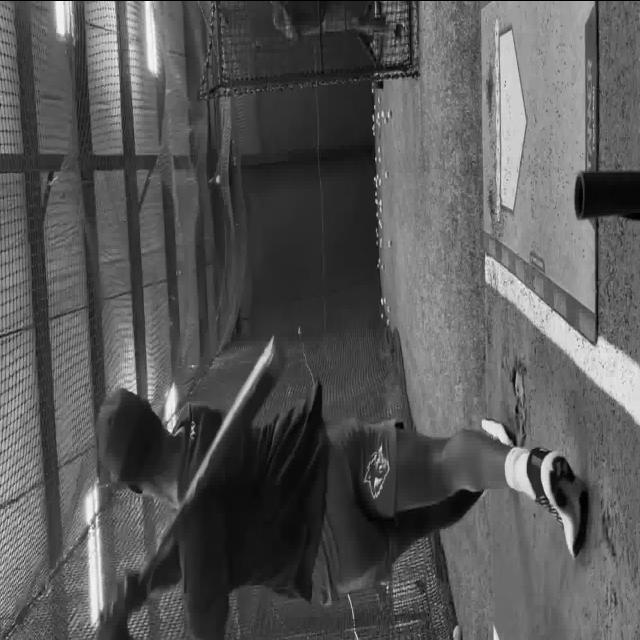base: (495, 16, 527, 211)
baseball: (452, 624, 462, 640), (220, 174, 222, 182)
bat: (122, 333, 280, 611)
shoe: (526, 446, 588, 558), (481, 418, 516, 448)
